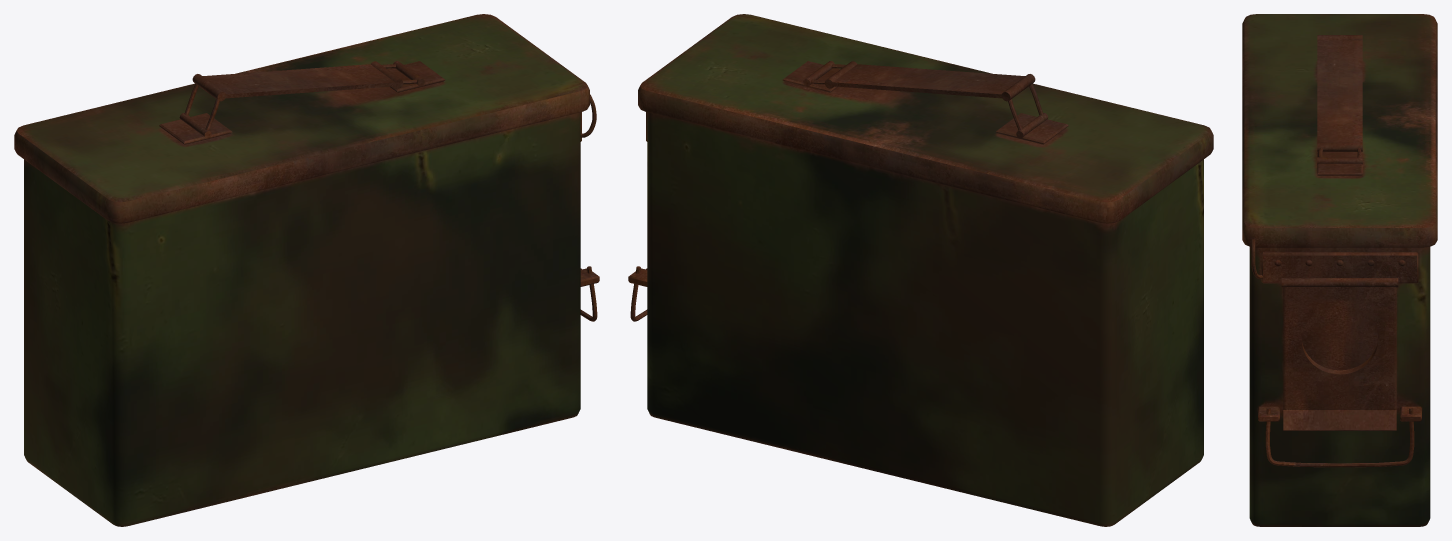
File: ammo-box_unmarked_final.glb
3 renders of one model, left to right at view 1: azimuth 30°, elevation 25°; view 2: azimuth 150°, elevation 25°; view 3: azimuth 270°, elevation 25°, orthographic. The views are drawn at different scales.
Parts seen in each view (by area): view 1: SM_AmmoBox_Body, SM_AmmoBox_Lid, SM_AmmoBox_Handle, SM_AmmoBox_HandleBrackets; view 2: SM_AmmoBox_Body, SM_AmmoBox_Lid, SM_AmmoBox_Handle, SM_AmmoBox_HandleBrackets; view 3: SM_AmmoBox_Lid, SM_AmmoBox_Body, SM_AmmoBox_LatchLever, SM_AmmoBox_LatchStrip, SM_AmmoBox_Handle, SM_AmmoBox_LatchBail, SM_AmmoBox_HandleBrackets, SM_AmmoBox_BailEars.
Part boxes in pixels (x1,y1,x2,y2): SM_AmmoBox_Body: (24,112,580,526); SM_AmmoBox_Lid: (14,14,589,223); SM_AmmoBox_Handle: (192,61,403,101); SM_AmmoBox_HandleBrackets: (159,61,445,144); SM_AmmoBox_Body: (647,112,1203,526); SM_AmmoBox_Lid: (638,14,1213,223); SM_AmmoBox_Handle: (824,61,1035,101); SM_AmmoBox_HandleBrackets: (782,61,1068,144); SM_AmmoBox_Lid: (1242,14,1437,247); SM_AmmoBox_Body: (1249,247,1430,526); SM_AmmoBox_LatchLever: (1283,287,1396,430); SM_AmmoBox_LatchStrip: (1261,252,1418,287); SM_AmmoBox_Handle: (1317,35,1362,151); SM_AmmoBox_LatchBail: (1265,407,1414,467); SM_AmmoBox_HandleBrackets: (1317,152,1362,175); SM_AmmoBox_BailEars: (1258,406,1421,421).
Size of the model in its own units: 0.291 by 0.2106 by 0.107.
2 materials, 2 textured.
